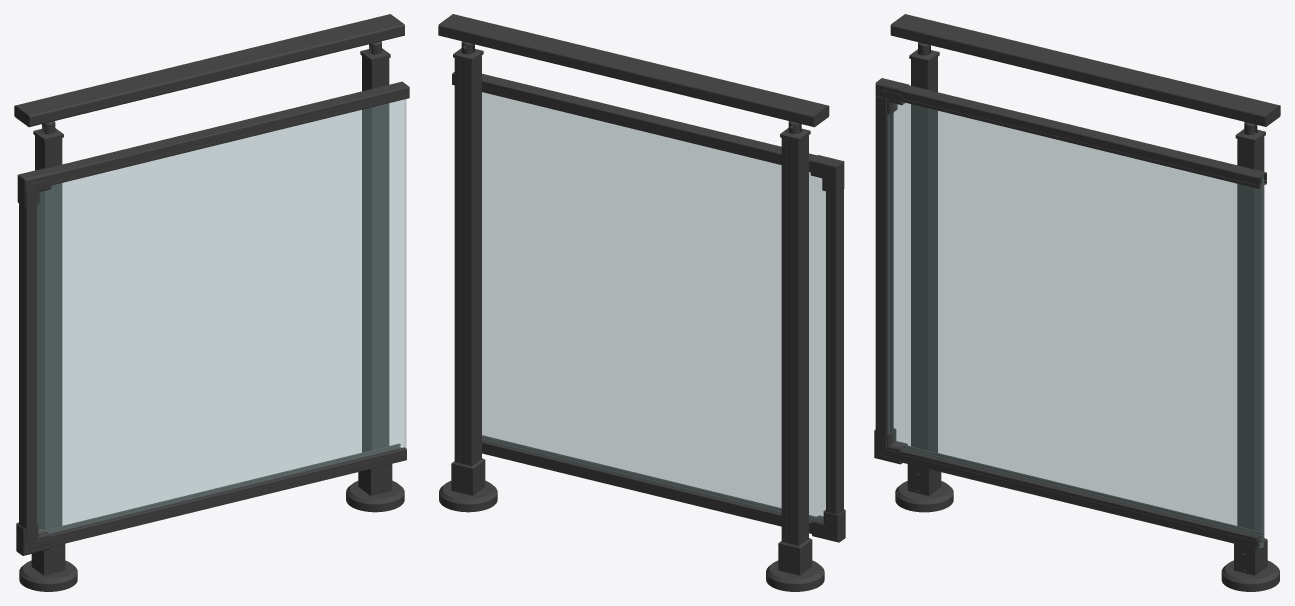
The model's file is starting_piece.glb.
3 views of the same model, side by side, from view 1: azimuth 30°, elevation 25°; view 2: azimuth 150°, elevation 25°; view 3: azimuth 330°, elevation 25° (orthographic).
Parts seen in each view (by area): view 1: glass, leg; view 2: glass, leg; view 3: glass, leg.
Boxes of the visible parts, box(x1,y1,x2,y2) form: glass: box(37, 99, 406, 533); leg: box(14, 14, 409, 591); glass: box(482, 92, 825, 520); leg: box(438, 14, 845, 591); glass: box(888, 103, 1263, 547); leg: box(874, 14, 1280, 591).
Size of the model in its own units: 0.00878 by 0.0102 by 0.00114.
